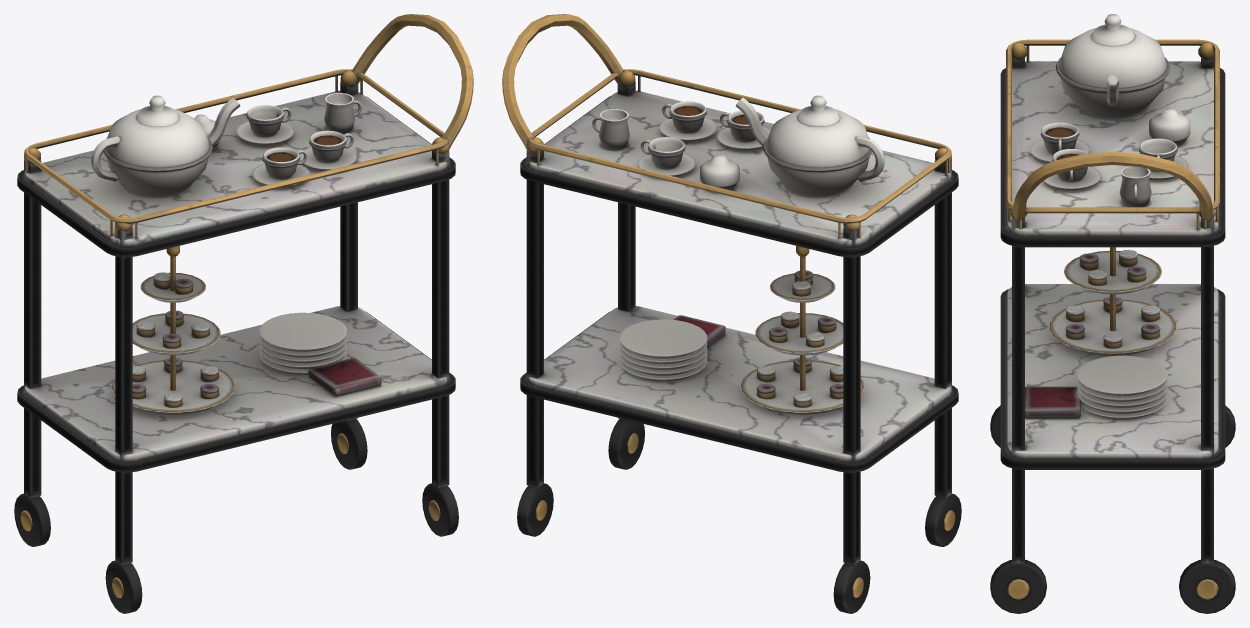
The model's file is TeaTrolley.fbx.
3 views of the same model, side by side, from view 1: azimuth 30°, elevation 25°; view 2: azimuth 150°, elevation 25°; view 3: azimuth 270°, elevation 25° (orthographic). The views are drawn at different scales.
Visible parts, largest first — view 1: TeaTrolley; view 2: TeaTrolley; view 3: TeaTrolley.
Boxes of the visible parts, x1,y1,x2,y2 form: TeaTrolley: [14, 14, 473, 613]; TeaTrolley: [502, 14, 961, 613]; TeaTrolley: [990, 14, 1235, 613].
Size of the model in its own units: 242 by 282 by 130.
